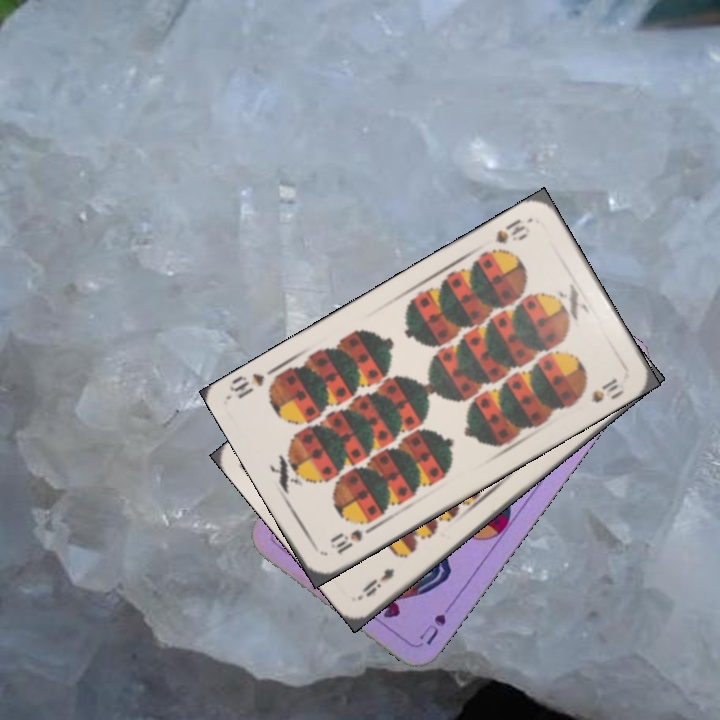E9: (358, 564, 398, 600)
S10: (326, 522, 378, 557), (491, 215, 529, 247)
SU: (415, 596, 459, 648)
